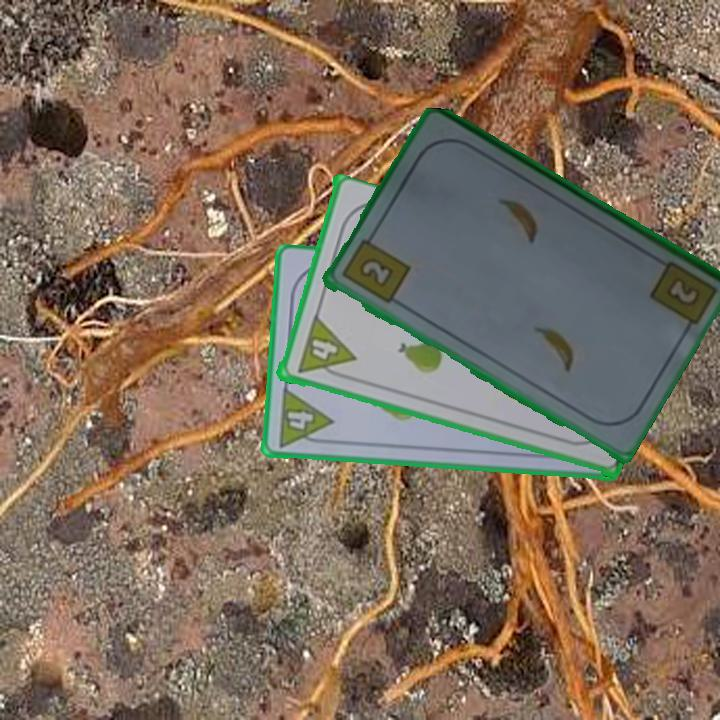2b: (337, 229, 413, 307), (662, 273, 700, 307)
4p: (293, 313, 357, 383), (274, 385, 336, 450)
